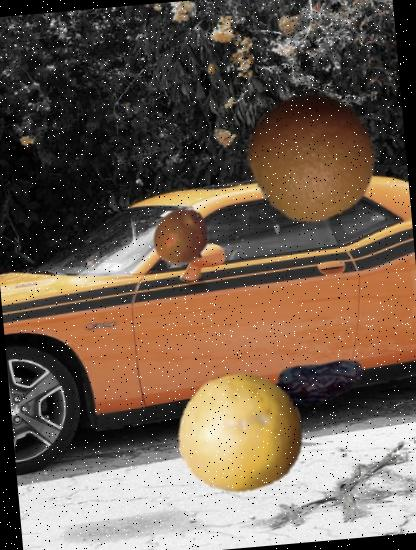Dates: (274, 336, 368, 429)
Grapefruit: (171, 364, 308, 501)
Orange: (242, 86, 382, 227)
Tangelo: (149, 204, 216, 272)
